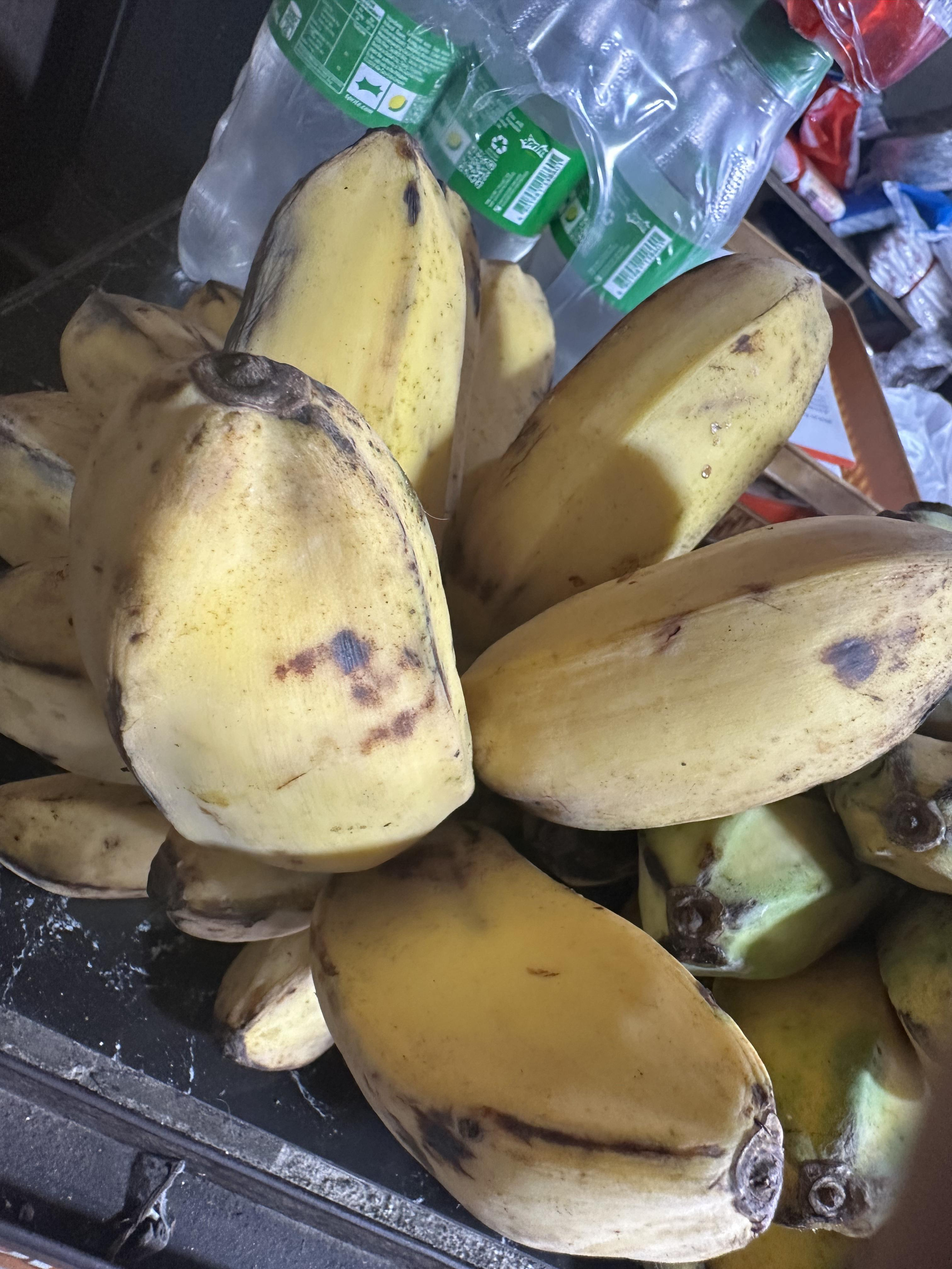ripe: (71, 130, 952, 1261), (0, 282, 333, 1069)
underripe: (638, 731, 952, 1238)
